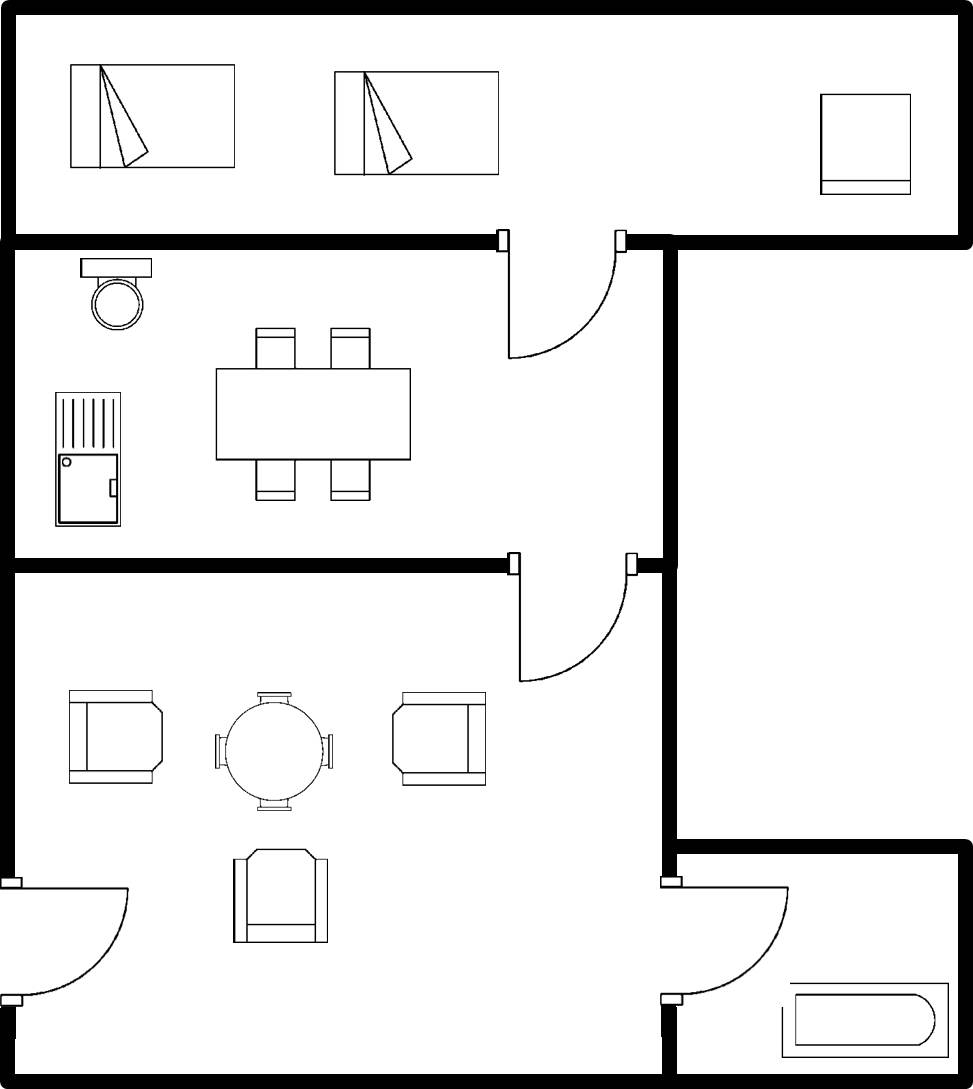armchair: (224, 839, 337, 954), (381, 686, 494, 793), (63, 683, 169, 792)
bed: (62, 56, 241, 177), (328, 63, 506, 183)
dining_table: (208, 314, 419, 509)
large_sink: (72, 250, 160, 339)
round_table: (204, 683, 345, 818)
sink: (50, 385, 127, 533)
small_sofa: (813, 85, 918, 206)
tub: (775, 975, 953, 1068)
